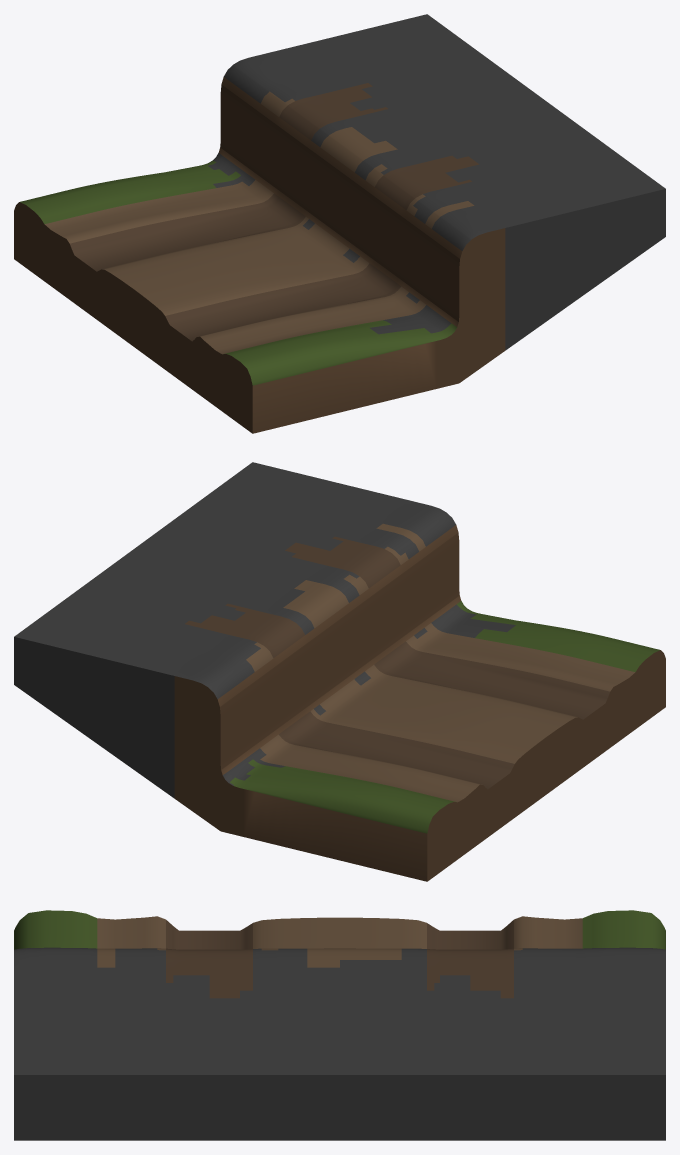
3 views of the same model, one above another, from view 1: azimuth 30°, elevation 25°; view 2: azimuth 150°, elevation 25°; view 3: azimuth 270°, elevation 25° (orthographic). The views are drawn at different scales.
Visible parts, largest first — view 1: k2t; view 2: k2t; view 3: k2t.
Boxes of the visible parts, x1=… form: k2t: x1=14, y1=14, x2=665, y2=433; k2t: x1=14, y1=462, x2=665, y2=881; k2t: x1=14, y1=910, x2=665, y2=1140.
Size of the model in its own units: 9 by 3.01 by 9.
